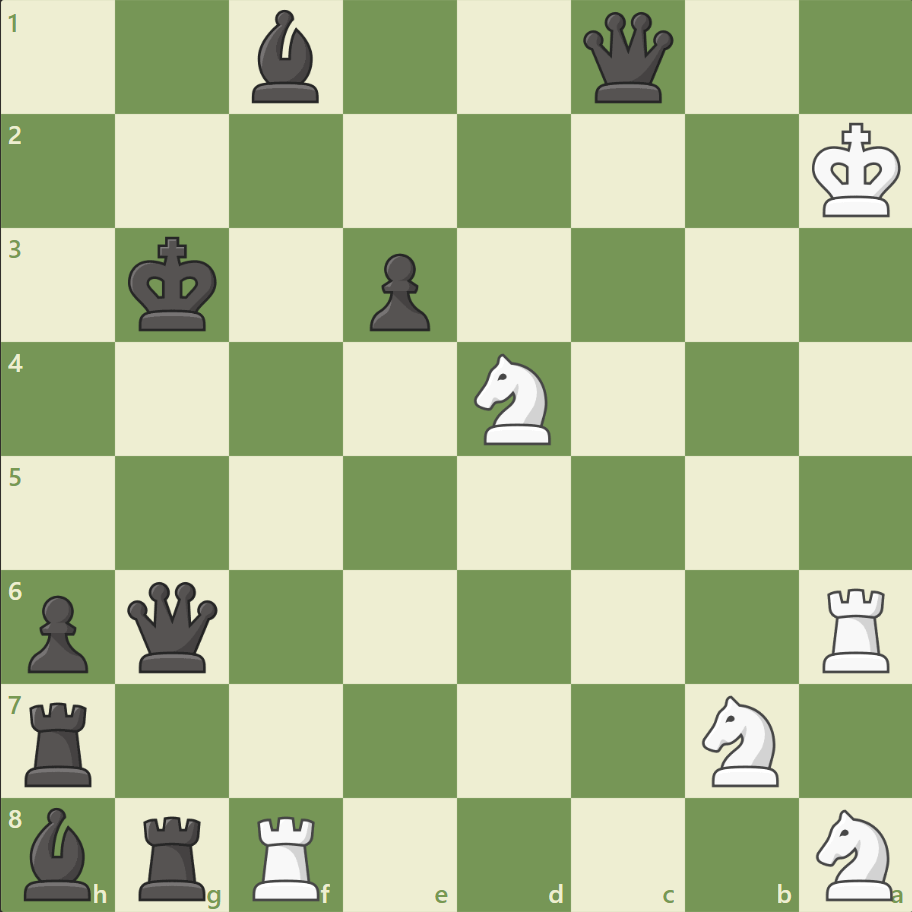K: (806, 117, 906, 225)
N: (692, 688, 789, 791), (806, 802, 903, 904), (465, 348, 562, 450)
R: (246, 806, 329, 904), (814, 579, 897, 676)
b: (17, 801, 101, 904), (244, 6, 328, 109)
k: (124, 231, 224, 339)
p: (20, 586, 95, 677), (361, 246, 435, 337)
q: (124, 576, 223, 676), (578, 9, 677, 108)
r: (19, 693, 102, 790), (133, 806, 215, 904)
